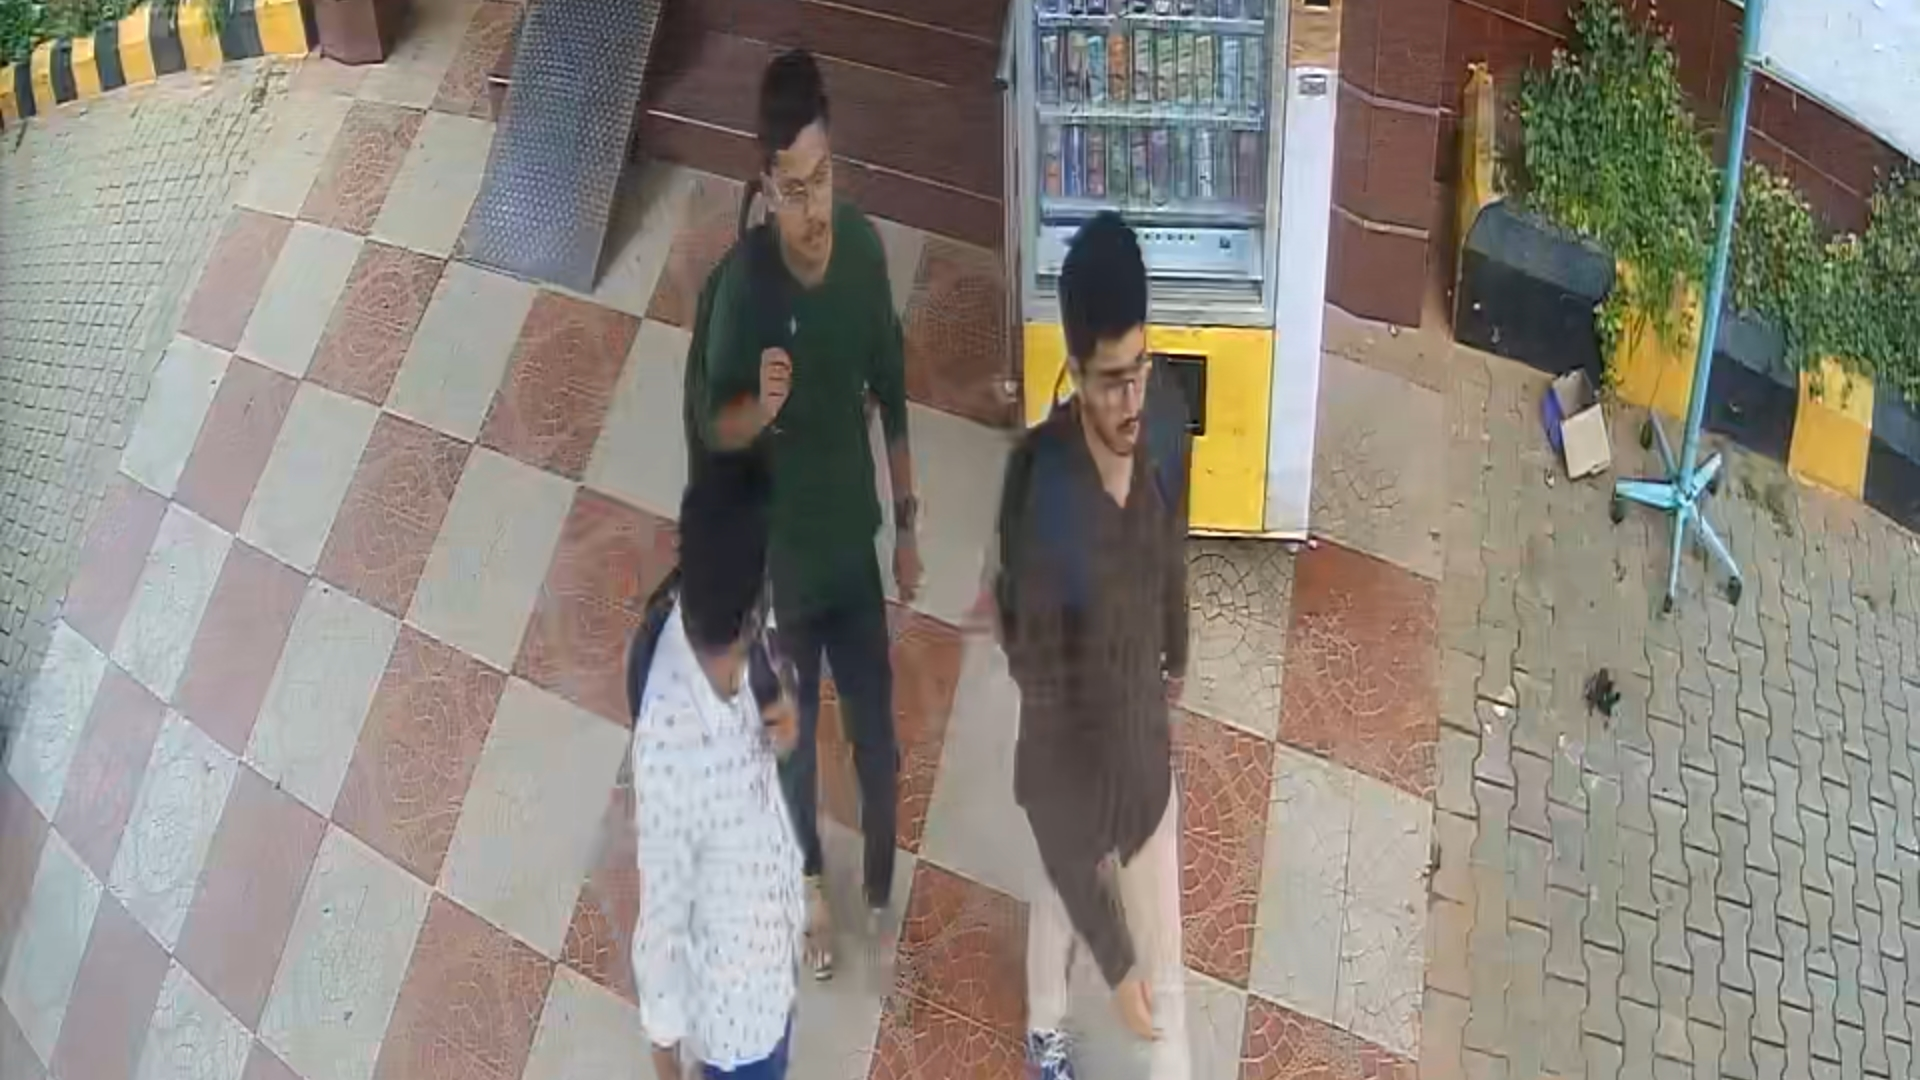intruder: (683, 24, 949, 967), (998, 200, 1228, 1080), (637, 455, 808, 1080)
